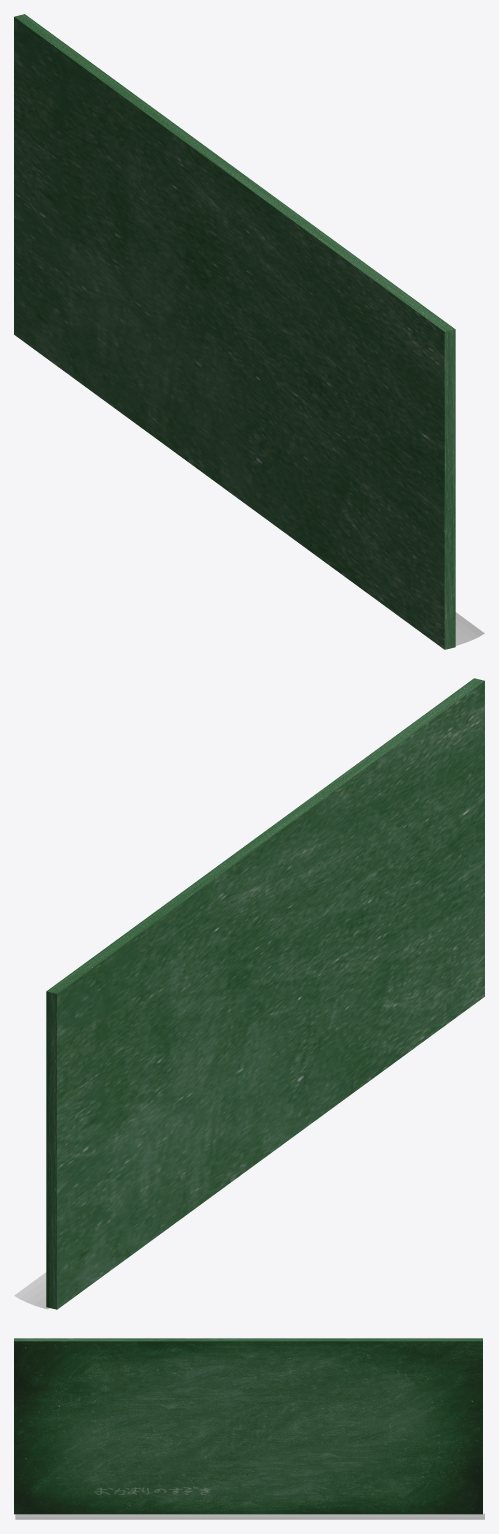
Rendered from tableau2.fbx.
3 renders of one model, top to bottom at view 1: azimuth 30°, elevation 25°; view 2: azimuth 150°, elevation 25°; view 3: azimuth 270°, elevation 25°, orthographic. The views are drawn at different scales.
Visible parts, largest first — view 1: tableau; view 2: tableau, bout metal; view 3: tableau, bout metal.
Boxes of the visible parts, <box> form: tableau: <box>14,14,455,649</box>; tableau: <box>46,678,484,1309</box>; bout metal: <box>14,1272,49,1309</box>; tableau: <box>14,1338,482,1514</box>; bout metal: <box>15,1513,484,1519</box>.
Bounding box in the file's own units: 36.35 × 266 × 656.
